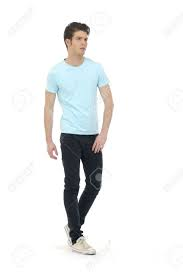face: (71, 32, 88, 55)
